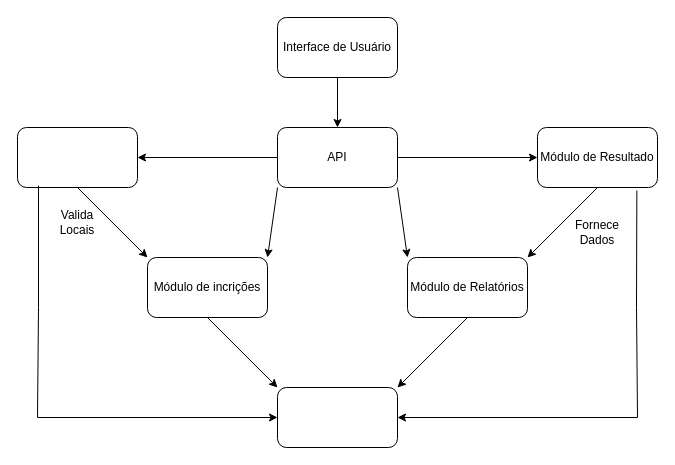
The diagram is 675 pixels wide and 465 high, and some of its shapes have lost their labels. Each missing label, with the box of its shape:
Banco de Dados: (276, 386, 398, 448)
Módulo de Alocação: (16, 126, 138, 188)
